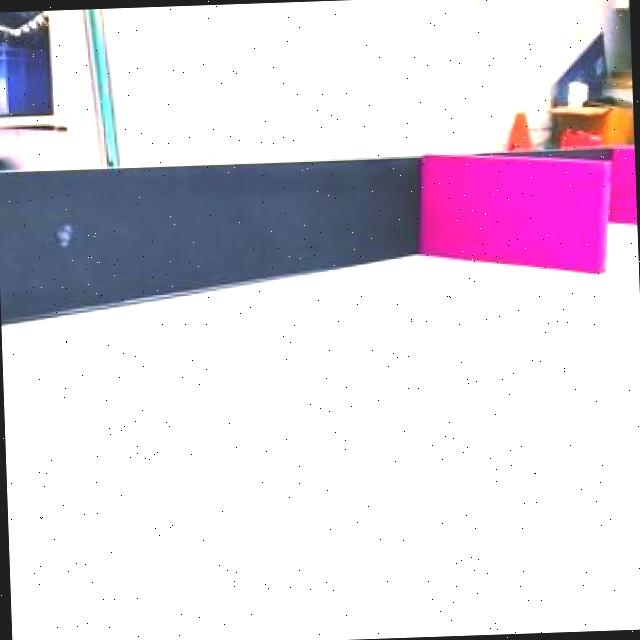xparking: (422, 158, 609, 256), (614, 148, 636, 220)
